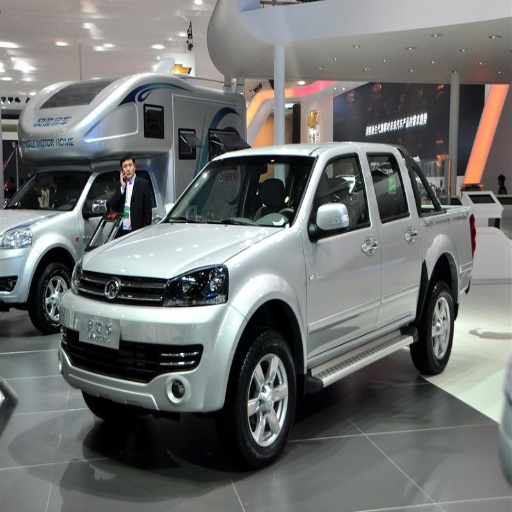back_glass: (45, 85, 115, 120)
back_left_door: (366, 151, 421, 323)
front_bumper: (56, 264, 246, 412)
front_glass: (163, 156, 315, 225)
front_left_door: (306, 152, 379, 355)
trunk: (424, 211, 477, 291)
